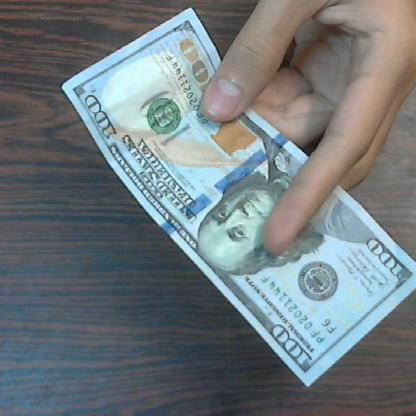one_hundred-front: (61, 1, 416, 367)
